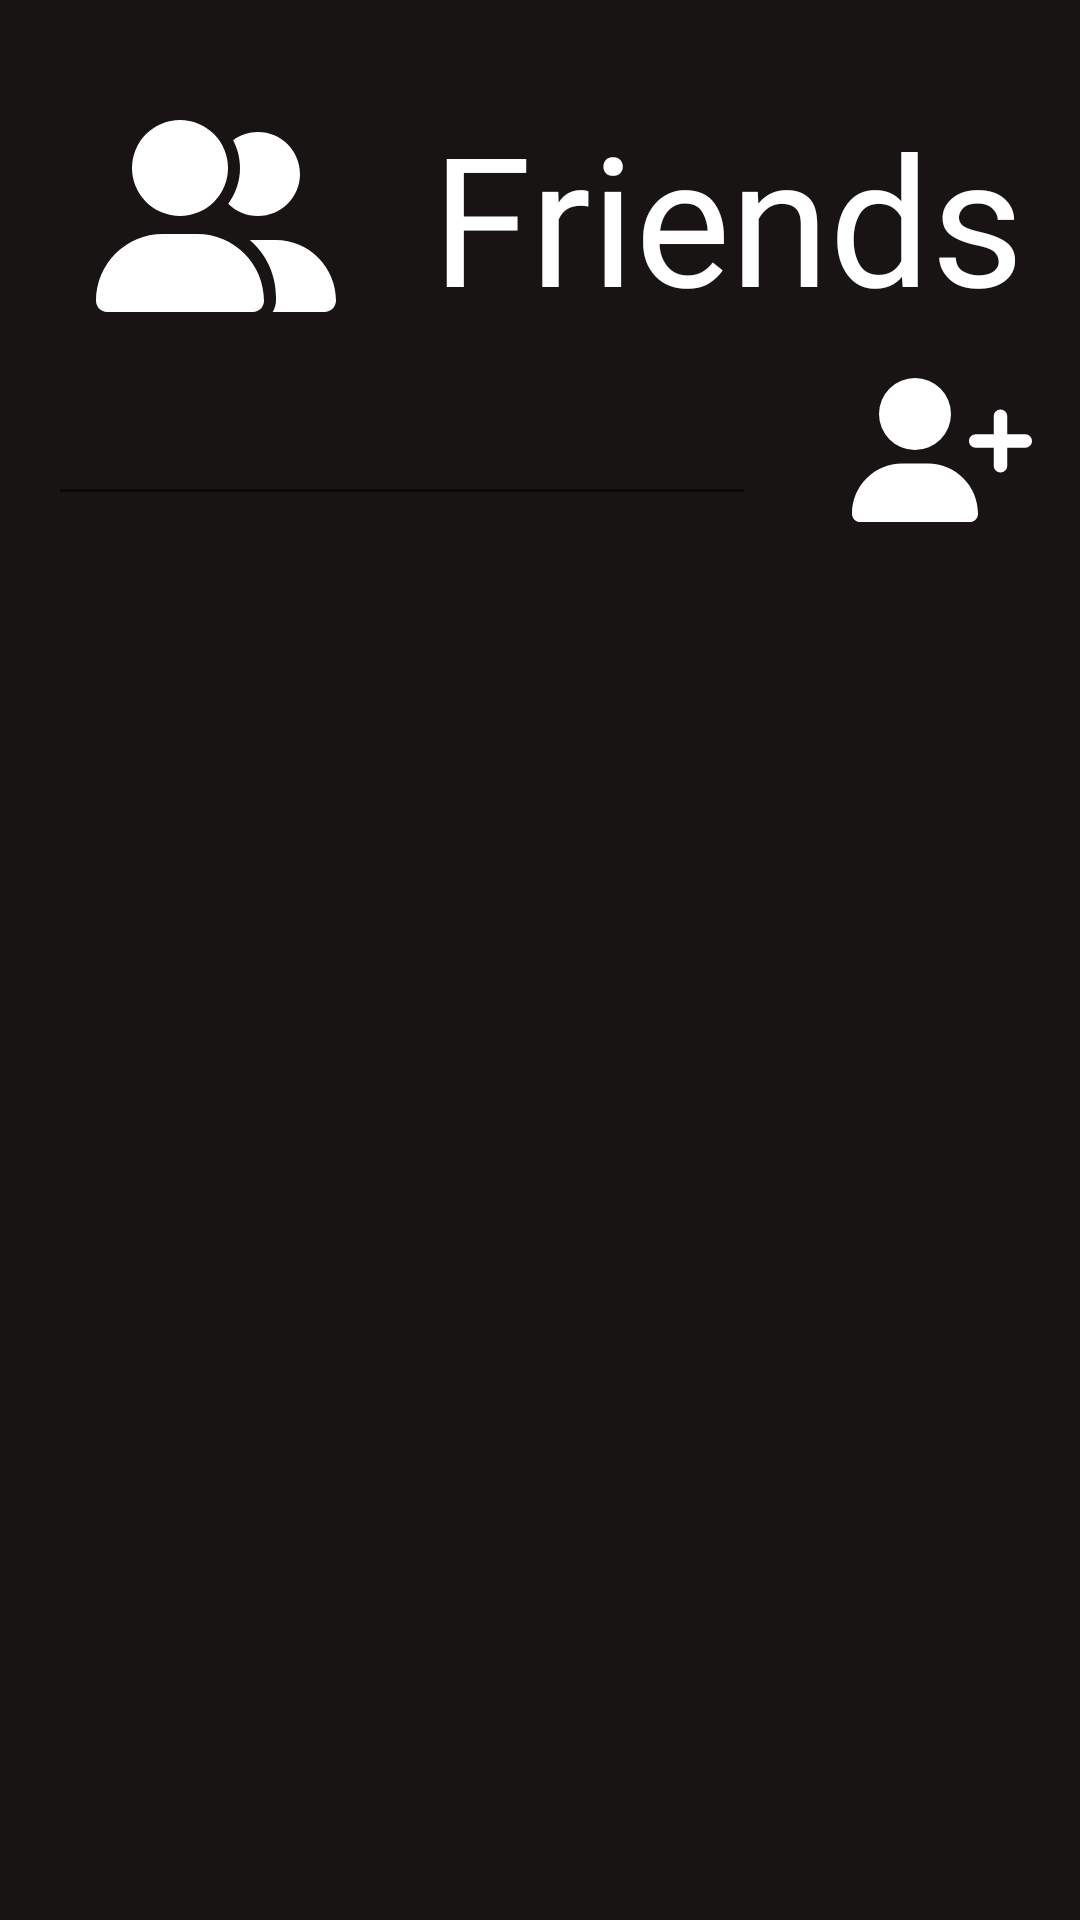

Screen size 1080 x 1920. Icon name, then its center in pixels as (x=x, y=y):
user group: (x=216, y=216)
user plus: (x=942, y=450)
